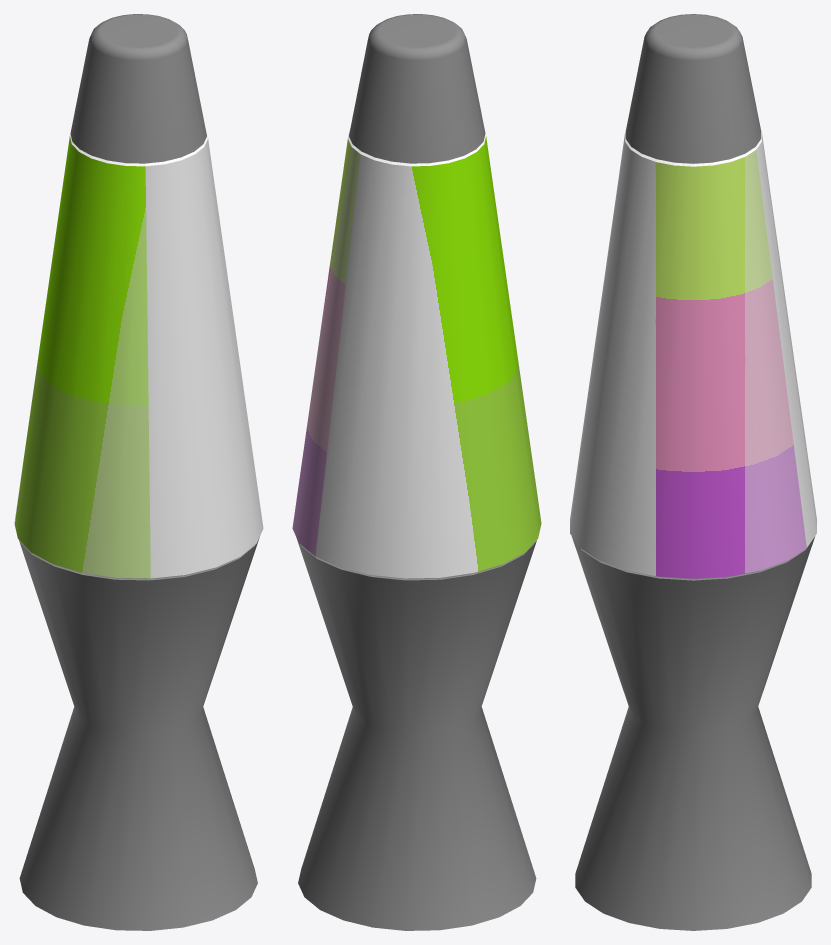
The model's file is Prize_LavaLamp_Model.fbx.
The picture shows the model from 3 angles, left to right: view 1: azimuth 30°, elevation 25°; view 2: azimuth 150°, elevation 25°; view 3: azimuth 270°, elevation 25°; orthographic projection.
Visible parts, largest first — view 1: Glass, Lava_Lamp; view 2: Glass, Lava_Lamp; view 3: Glass, Lava_Lamp.
Part boxes in pixels (bbox=[...]): Glass: bbox=[14, 130, 263, 578]; Lava_Lamp: bbox=[19, 14, 259, 930]; Glass: bbox=[292, 130, 541, 578]; Lava_Lamp: bbox=[296, 14, 536, 930]; Glass: bbox=[570, 133, 816, 578]; Lava_Lamp: bbox=[571, 14, 815, 930].
Size of the model in its own units: 9.65 by 36.3 by 9.56.
